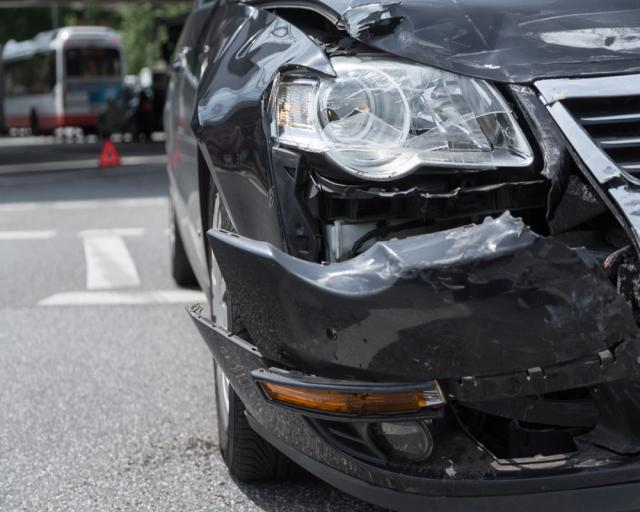crack: (574, 437, 640, 458)
dent: (198, 12, 325, 238), (343, 0, 640, 80)
lamp broken: (258, 55, 535, 179)
scratch: (372, 223, 617, 336)
